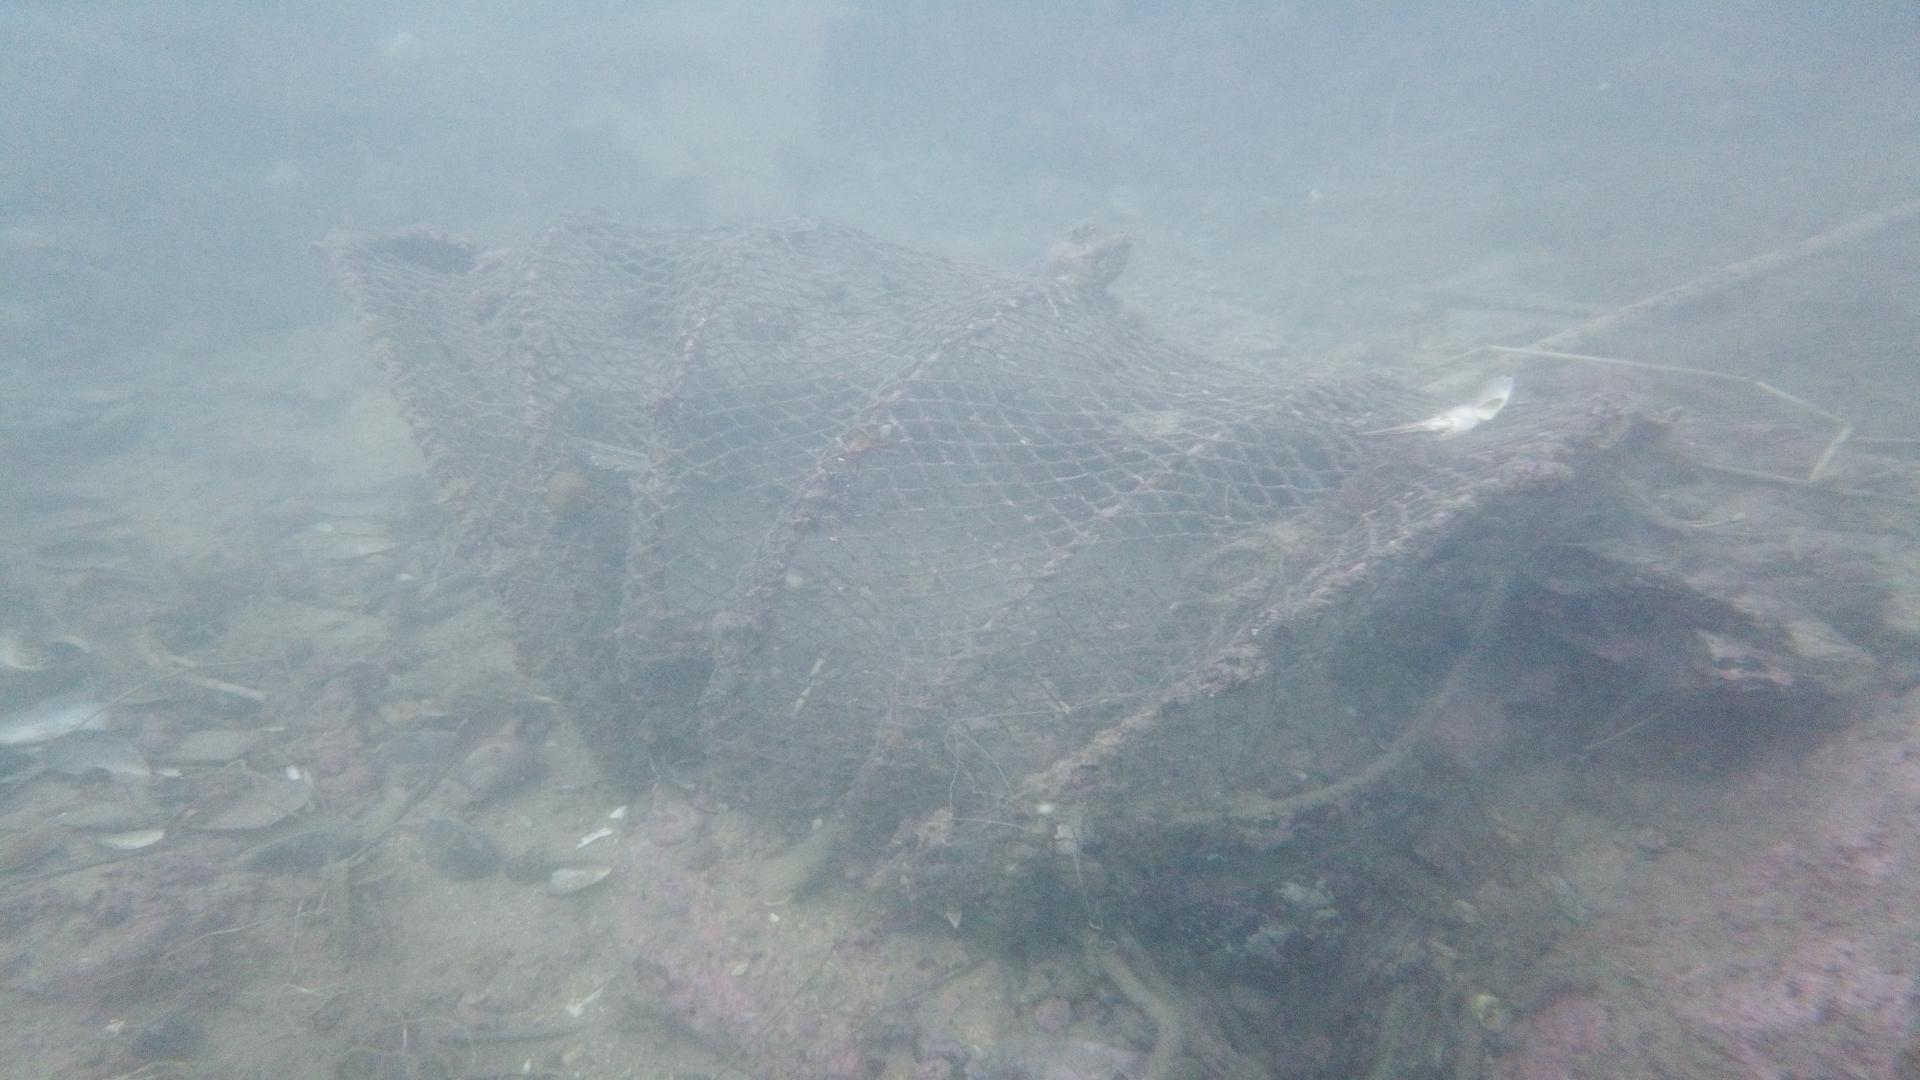spring fish trap: (323, 196, 1692, 953)
